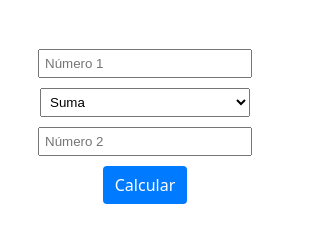
Scenario: Calculator component › Error si los valores no son números
This screenshot has width=320, height=237.
Click the button "Calcular" at (145, 184), box x1=103 y1=166 x2=187 y2=204
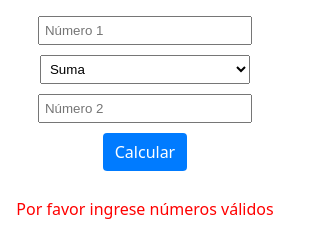
Result: the text "Por favor ingrese números válidos" is shown at x1=16 y1=196 x2=274 y2=220
